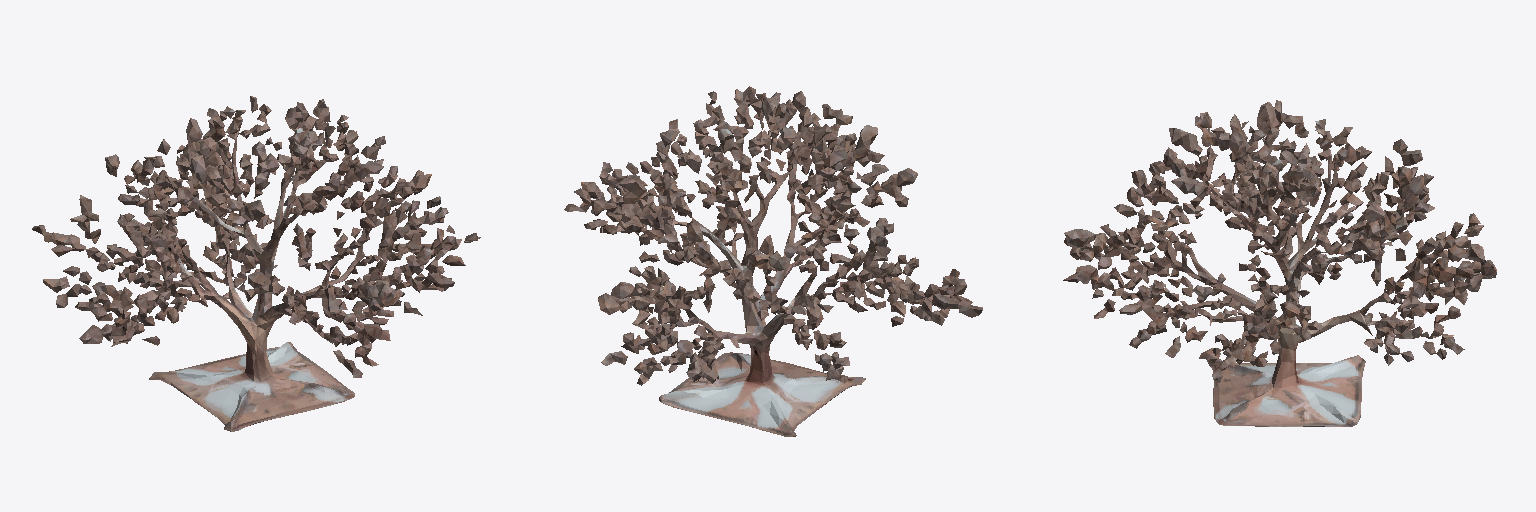
The picture shows the model from 3 angles: view 1: azimuth 30°, elevation 25°; view 2: azimuth 150°, elevation 25°; view 3: azimuth 270°, elevation 25°; orthographic projection.
Visible parts, largest first — view 1: model; view 2: model; view 3: model.
Part boxes in pixels (x1,y1,x2,y2): model: (32, 96, 480, 431); model: (564, 86, 982, 436); model: (1063, 100, 1496, 426).
Bounding box in the file's own units: 15.35 × 10 × 14.47.
1 materials, 1 textured.